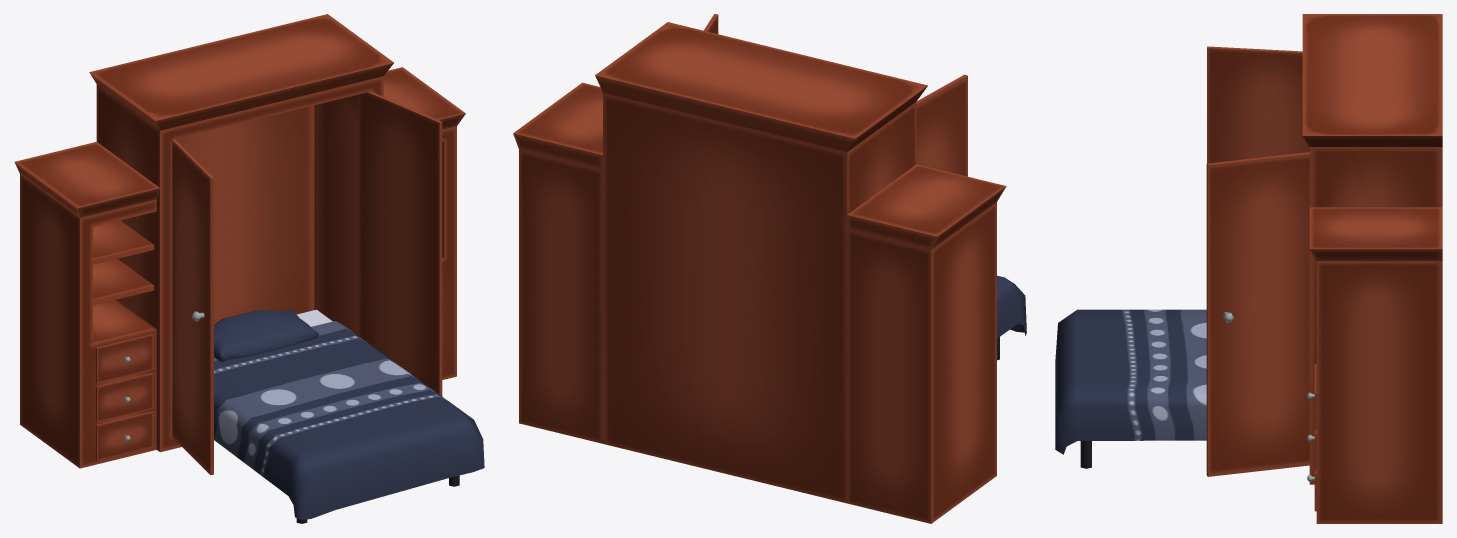
Rendered from Friday_wallBed.fbx.
3 renders of one model, left to right at view 1: azimuth 30°, elevation 25°; view 2: azimuth 150°, elevation 25°; view 3: azimuth 270°, elevation 25°, orthographic. The views are drawn at different scales.
Visible parts, largest first — view 1: pPlane2; view 2: pPlane2; view 3: pPlane2.
Part boxes in pixels (box(x1,y1,x2,y2)): pPlane2: box(14, 14, 484, 523); pPlane2: box(513, 14, 1026, 523); pPlane2: box(1055, 14, 1442, 523).
Size of the model in its own units: 39.79 by 32.86 by 32.76.
